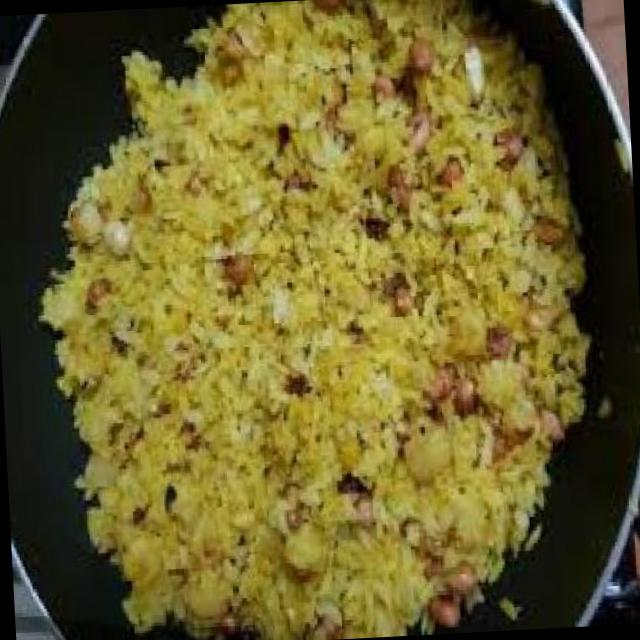poha: (25, 0, 602, 640)
